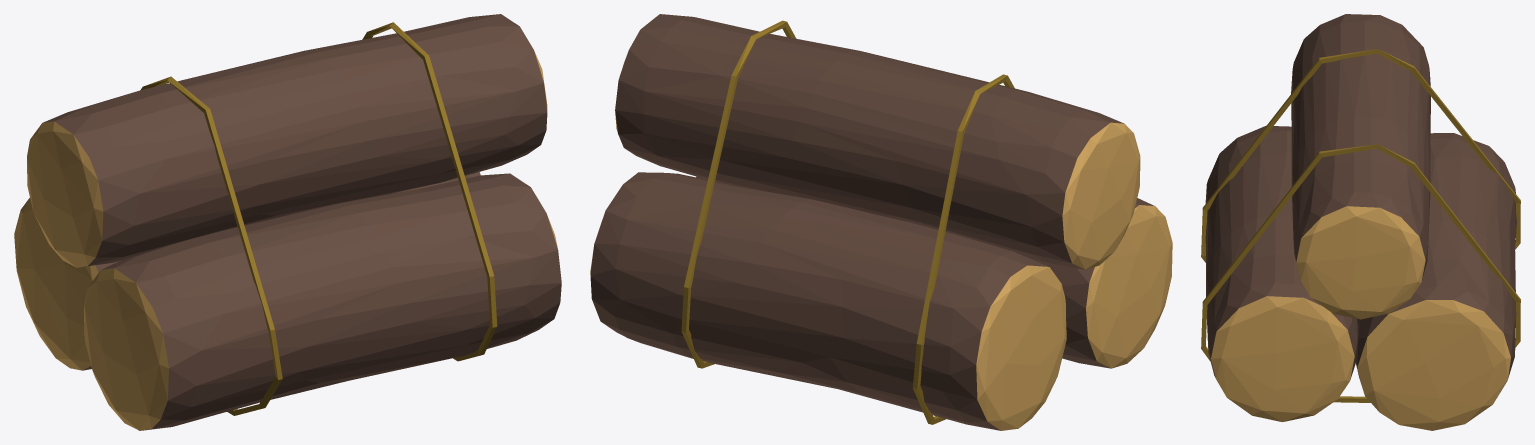
The model's file is CampfireKit.fbx.
The picture shows the model from 3 angles, left to right: view 1: azimuth 30°, elevation 25°; view 2: azimuth 150°, elevation 25°; view 3: azimuth 270°, elevation 25°; orthographic projection. The views are drawn at different scales.
Parts seen in each view (by area): view 1: Cylinder.005, Cylinder.006, Cylinder.004, Cube, Cube.001; view 2: Cylinder.004, Cylinder.006, Cylinder.005, Cube, Cube.001; view 3: Cylinder.006, Cylinder.004, Cylinder.005, Cube, Cube.001.
Boxes of the visible parts, box(x1,y1,x2,y2) form: Cylinder.005: box(83, 173, 561, 430); Cylinder.006: box(27, 14, 547, 267); Cylinder.004: box(14, 172, 480, 370); Cube: box(362, 22, 497, 361); Cube.001: box(140, 76, 282, 415); Cylinder.004: box(590, 172, 1066, 430); Cylinder.006: box(615, 14, 1140, 269); Cylinder.005: box(696, 176, 1172, 368); Cube: box(681, 20, 796, 368); Cube.001: box(912, 74, 1014, 424); Cylinder.006: box(1291, 14, 1430, 319); Cylinder.004: box(1355, 133, 1516, 430); Cylinder.005: box(1205, 125, 1357, 421); Cube: box(1201, 144, 1520, 402); Cube.001: box(1201, 49, 1520, 262).
Bounding box in the file's own units: 78.36 × 48.6 × 54.01.
